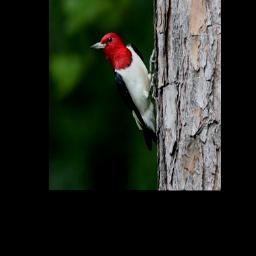Woodpecker: (88, 31, 160, 150)
